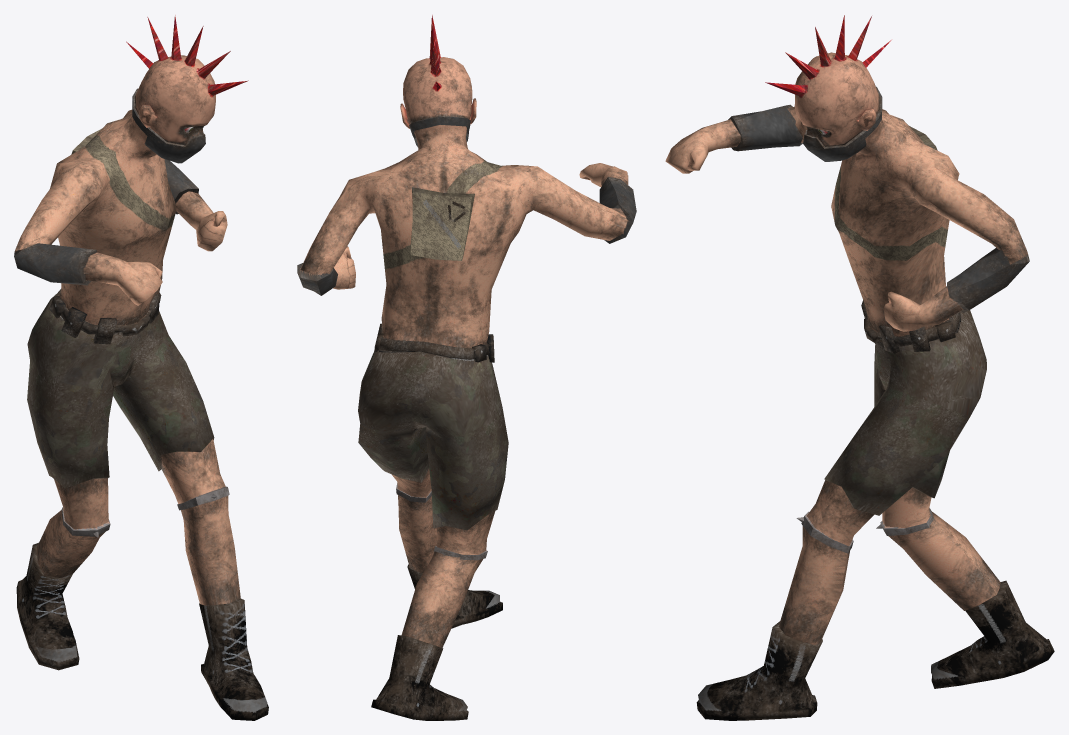
File: Anim_ataque_d2_npc2.0019.obj
3 renders of one model, left to right at view 1: azimuth 30°, elevation 25°; view 2: azimuth 150°, elevation 25°; view 3: azimuth 270°, elevation 25°, orthographic. The views are drawn at different scales.
Visible parts, largest first — view 1: polySurface1; view 2: polySurface1; view 3: polySurface1.
Boxes of the visible parts, x1,y1,x2,y2 form: polySurface1: (14,15,268,720); polySurface1: (297,15,636,720); polySurface1: (665,15,1054,720).
Bounding box in the file's own units: 3.99 × 9.67 × 4.85.
